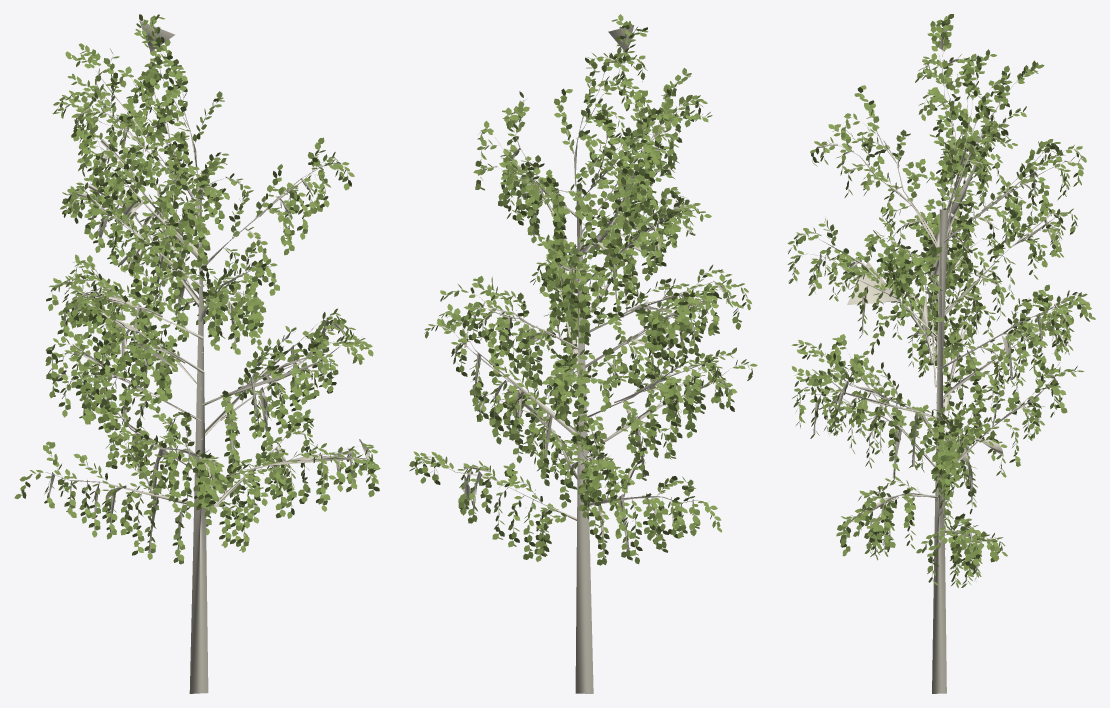
Rendered from silver_birch_47.glb.
3 views of the same model, side by side, from view 1: azimuth 30°, elevation 25°; view 2: azimuth 150°, elevation 25°; view 3: azimuth 270°, elevation 25° (orthographic). The views are drawn at different scales.
Visible parts, largest first — view 1: Woodland silver_birch_47; view 2: Woodland silver_birch_47; view 3: Woodland silver_birch_47.
Boxes of the visible parts, x1,y1,x2,y2 form: Woodland silver_birch_47: [14, 14, 380, 693]; Woodland silver_birch_47: [409, 14, 757, 693]; Woodland silver_birch_47: [787, 14, 1095, 693].
Bounding box in the file's own units: 5.79 × 11.91 × 5.11.
